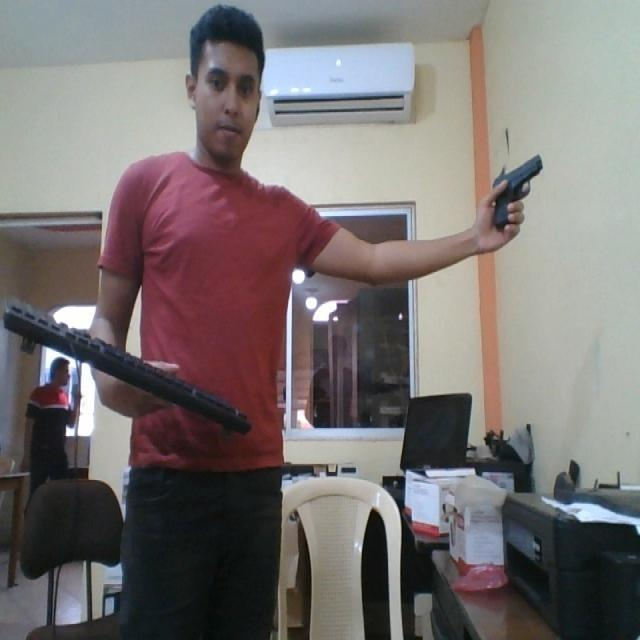weapon: (480, 150, 545, 238)
